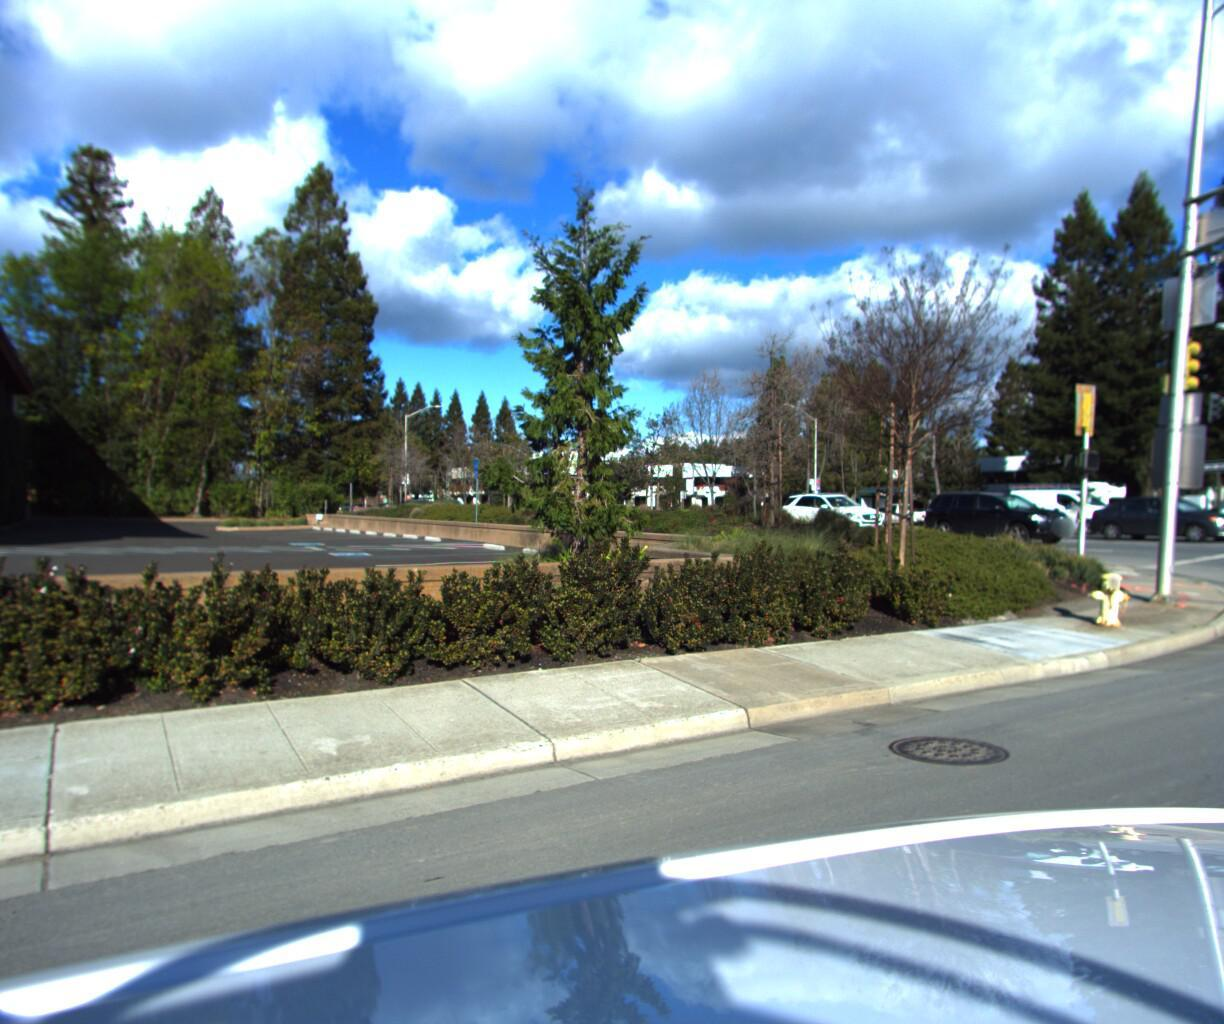car: (918, 482, 1086, 542), (991, 473, 1134, 531), (1082, 487, 1224, 542), (773, 485, 895, 537), (875, 499, 955, 525)
